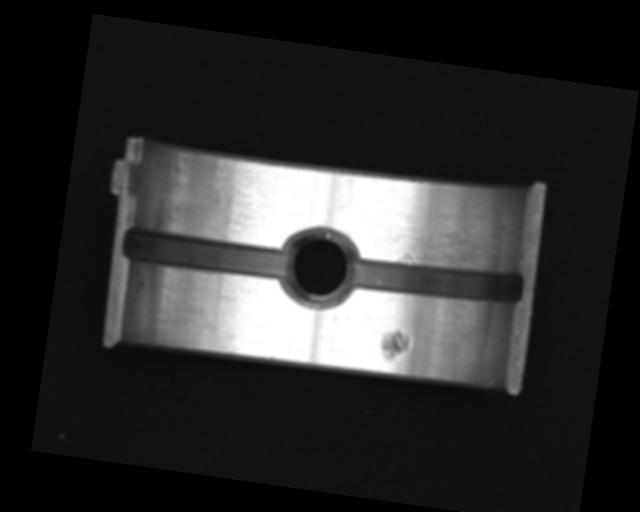bruise: (378, 326, 411, 365)
gap: (346, 247, 525, 312), (120, 226, 291, 282)
hole: (276, 221, 359, 313)
scratch: (354, 178, 514, 279)
